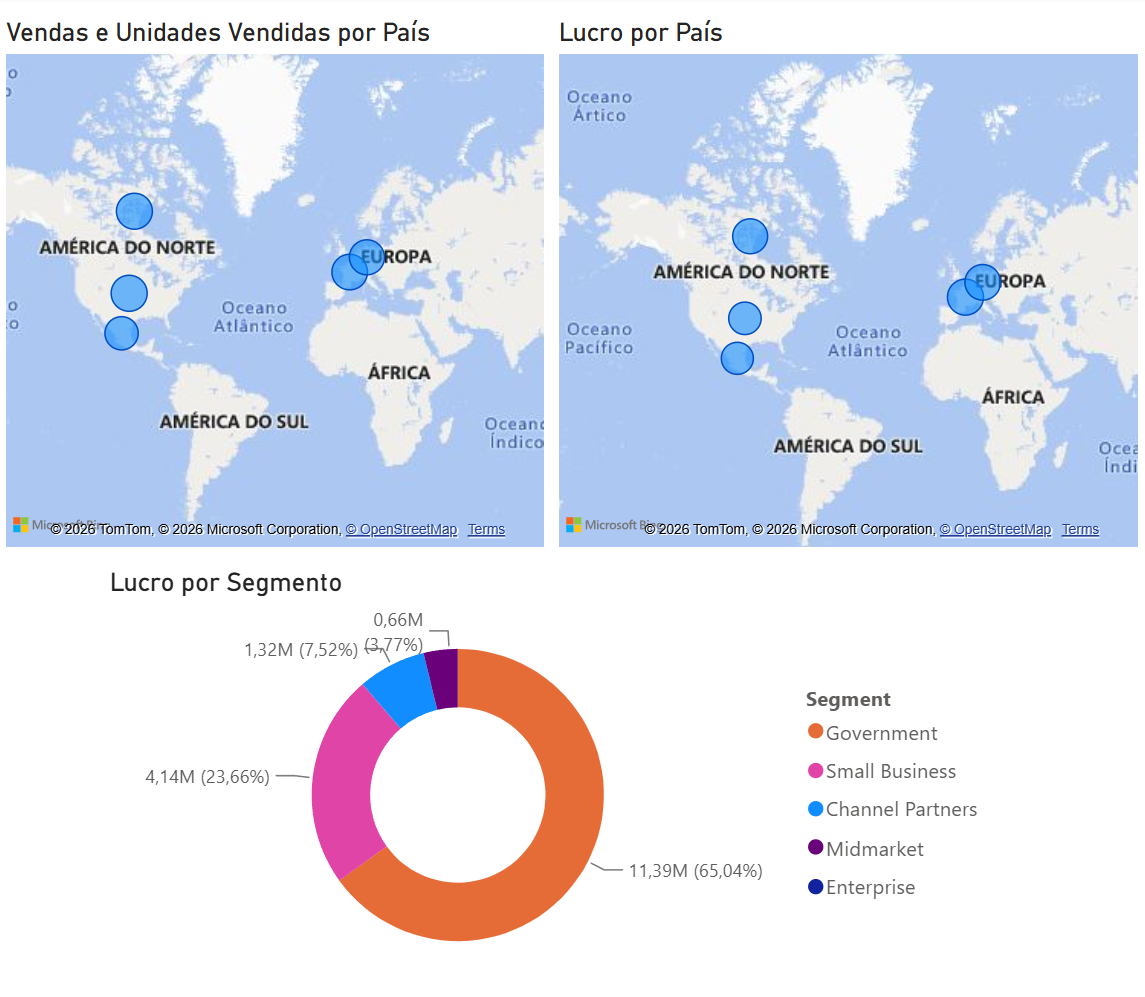

The page's visual inventory and layout, read from the dashboard file:
{"tool":"powerbi","page":{"name":"Page 2","canvas":[1280,720],"ordinal":1},"visuals":[{"type":"map","title":"Vendas e Unidades Vendidas por País","fields":{"Size":["Sum(financials. Sales)"],"Category":["financials.Country"]},"box":[0,0,361.9,352.1],"z":0},{"type":"map","title":"Lucro por País","fields":{"Category":["financials.Country"],"Size":["Sum(financials.Profit)"]},"box":[361.9,0,388.7,352.1],"z":1},{"type":"donutChart","title":"Lucro por Segmento","fields":{"Category":["financials.Segment"],"Y":["Sum(financials.Profit)"]},"box":[68.1,359.9,587.6,279.4],"z":2}]}

Visuals, with their boxes on the page's 1280x720 design canvas (x1, y1, x2, y2). These are canvas units, not pixel positions in the 1145x997 screenshot, which may show the page scaled, cropped or inside an application window:
"Vendas e Unidades Vendidas por País" map: BBox(0, 0, 362, 352)
"Lucro por País" map: BBox(362, 0, 751, 352)
"Lucro por Segmento" donutChart: BBox(68, 360, 656, 639)
